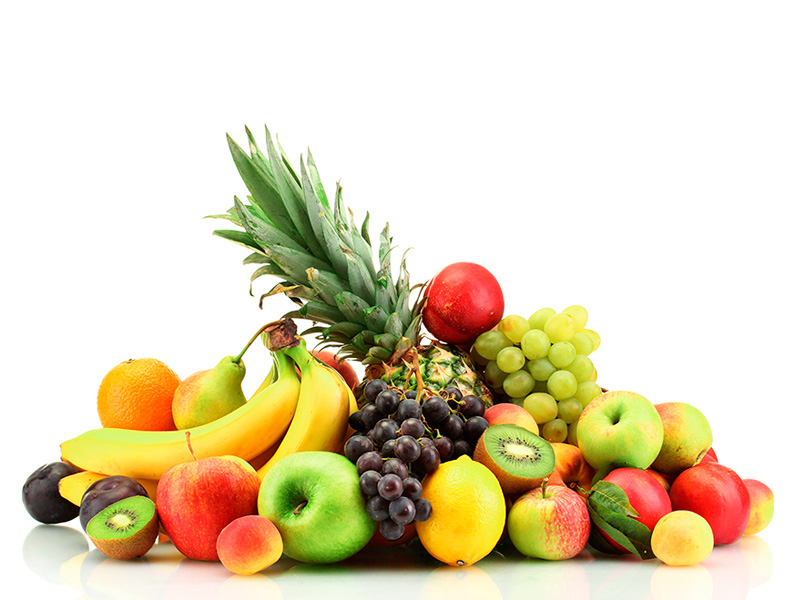banana: (70, 387, 298, 477), (46, 430, 210, 476), (276, 356, 351, 450), (229, 379, 293, 466)
